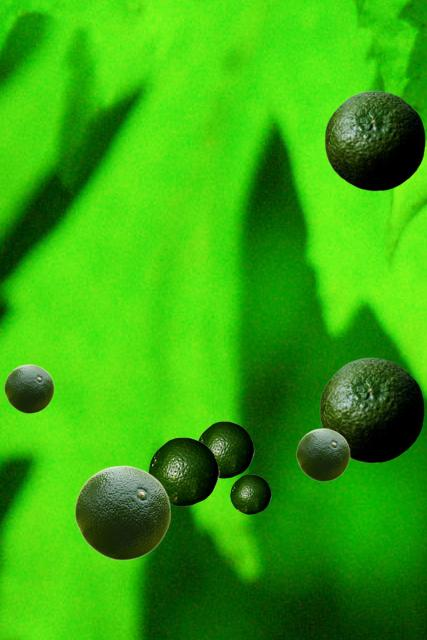calamansi: (319, 357, 423, 462), (324, 90, 424, 190), (74, 465, 170, 559), (148, 437, 218, 505), (198, 421, 253, 477), (296, 428, 349, 480), (4, 364, 53, 412), (230, 474, 270, 513)
